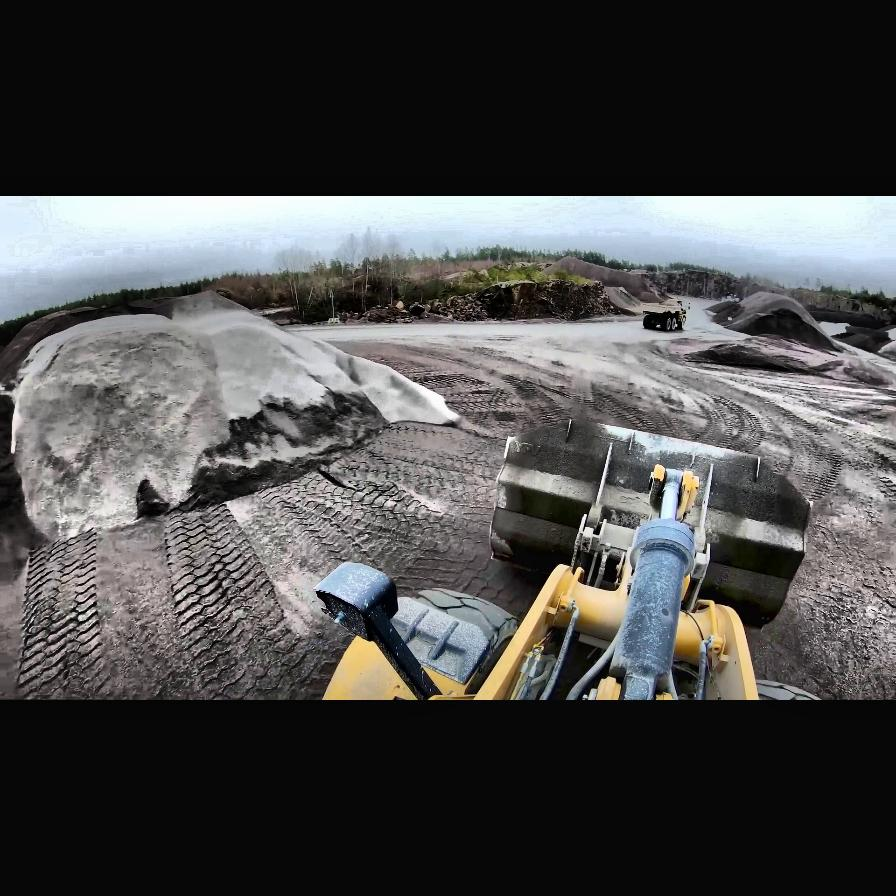anchor: (650, 464, 700, 522)
pile of gravel: (4, 292, 450, 546), (704, 290, 846, 350), (568, 258, 684, 304), (542, 255, 598, 277), (702, 296, 744, 314)
